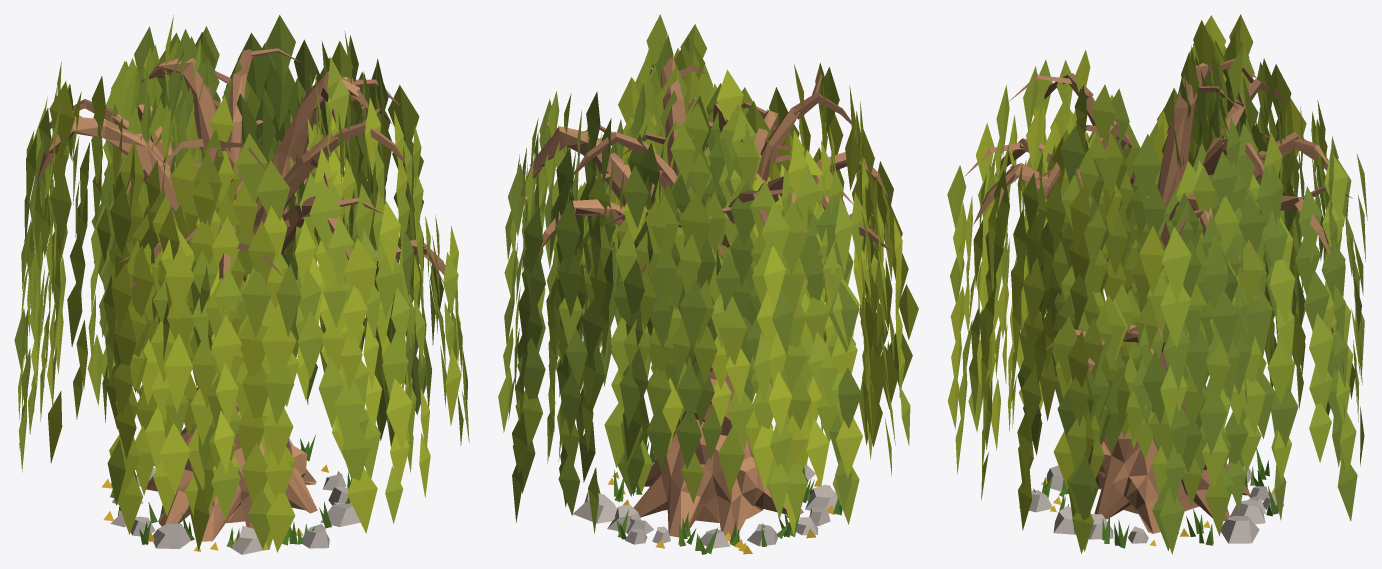
The model's file is giant_willow_bloom.glb.
3 views of the same model, side by side, from view 1: azimuth 30°, elevation 25°; view 2: azimuth 150°, elevation 25°; view 3: azimuth 270°, elevation 25° (orthographic). The views are drawn at different scales.
Parts seen in each view (by area): view 1: giant_willow_bloom; view 2: giant_willow_bloom; view 3: giant_willow_bloom.
Boxes of the visible parts, x1=… form: giant_willow_bloom: x1=14, y1=15, x2=469, y2=554; giant_willow_bloom: x1=498, y1=14, x2=918, y2=554; giant_willow_bloom: x1=947, y1=14, x2=1367, y2=554.
Size of the model in its own units: 22.93 by 27.18 by 22.43.
